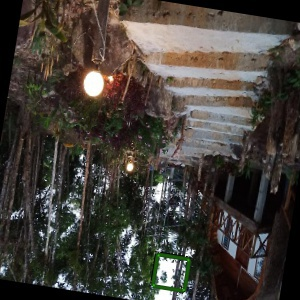square: (148, 250, 194, 294)
